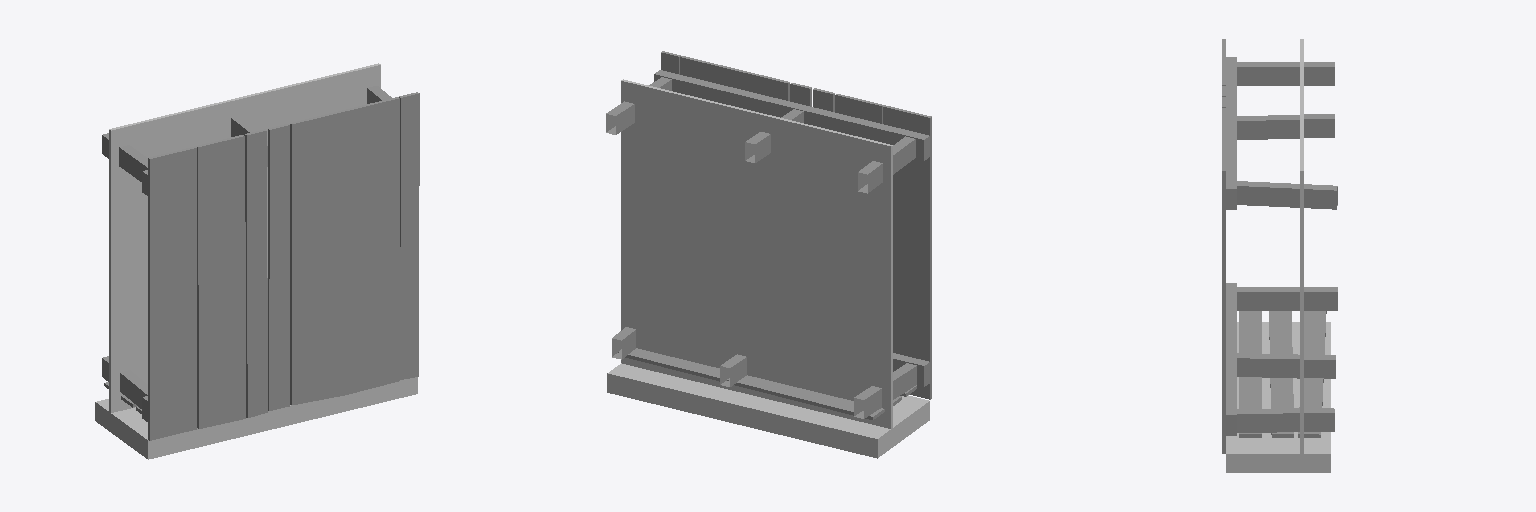
The model's file is ext_oldwood_platform_4x4m_a.obj.
3 views of the same model, side by side, from view 1: azimuth 30°, elevation 25°; view 2: azimuth 150°, elevation 25°; view 3: azimuth 270°, elevation 25° (orthographic).
Parts seen in each view (by area): view 1: g_oldwood, c_box_001, c_box_002; view 2: c_box_001, g_oldwood, c_box_002; view 3: g_oldwood, c_box_002, c_box_001.
Part boxes in pixels (left/top/right/bottom): g_oldwood: left=102, top=86, right=419, bottom=440; c_box_001: left=109, top=63, right=380, bottom=412; c_box_002: left=95, top=377, right=417, bottom=459; c_box_001: left=621, top=79, right=892, bottom=428; g_oldwood: left=606, top=51, right=931, bottom=419; c_box_002: left=607, top=363, right=929, bottom=458; g_oldwood: left=1222, top=39, right=1337, bottom=453; c_box_002: left=1226, top=322, right=1330, bottom=472; c_box_001: left=1300, top=39, right=1303, bottom=453.
Bounding box in the file's own units: 400 × 428 × 149.